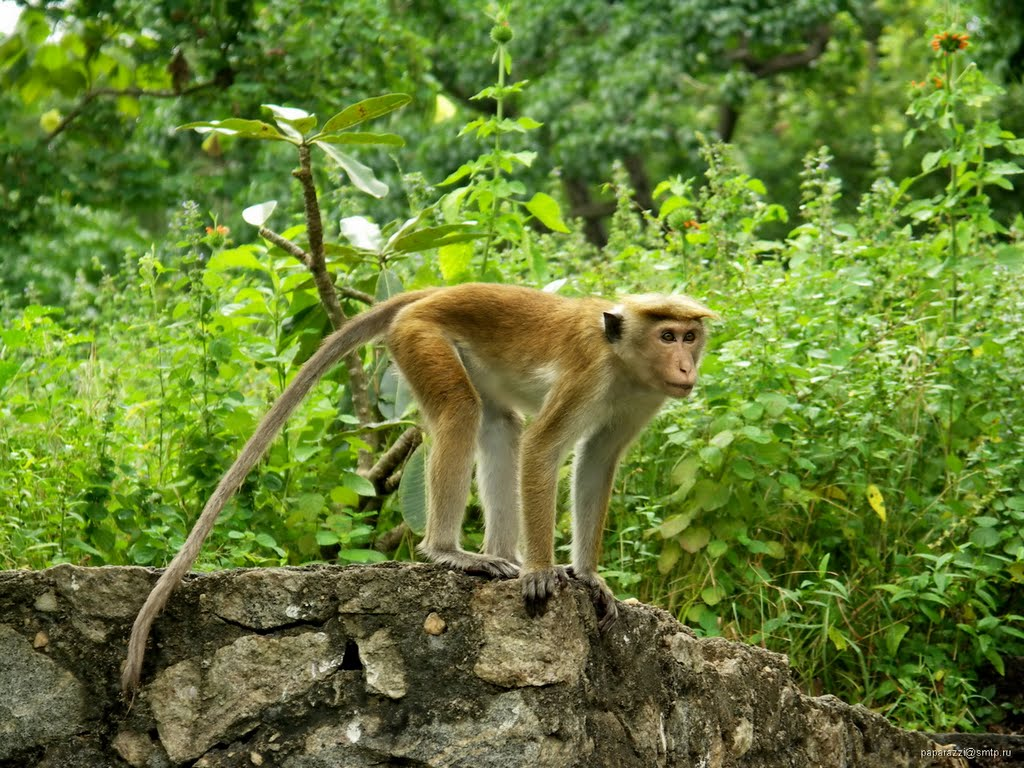Monkey: (353, 269, 727, 590)
